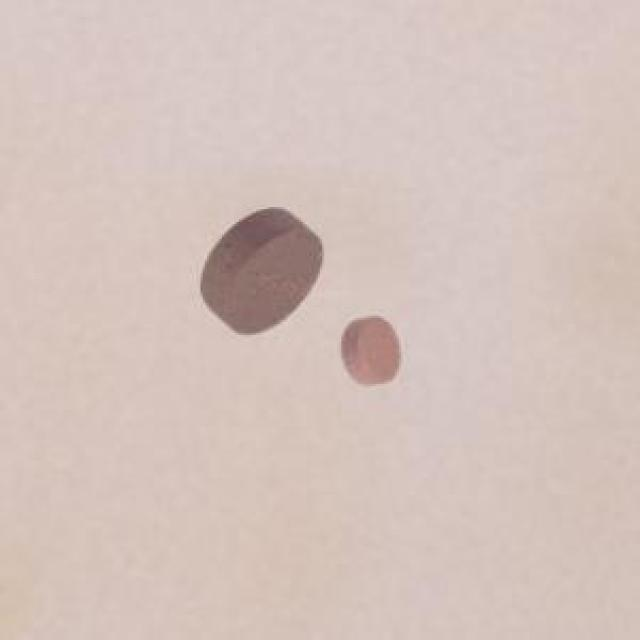Kremil_S: (193, 198, 331, 339), (339, 309, 408, 395)
